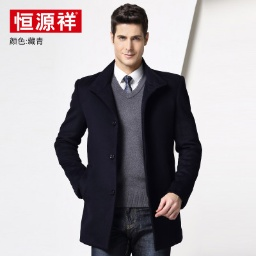face: (111, 2, 150, 67)
